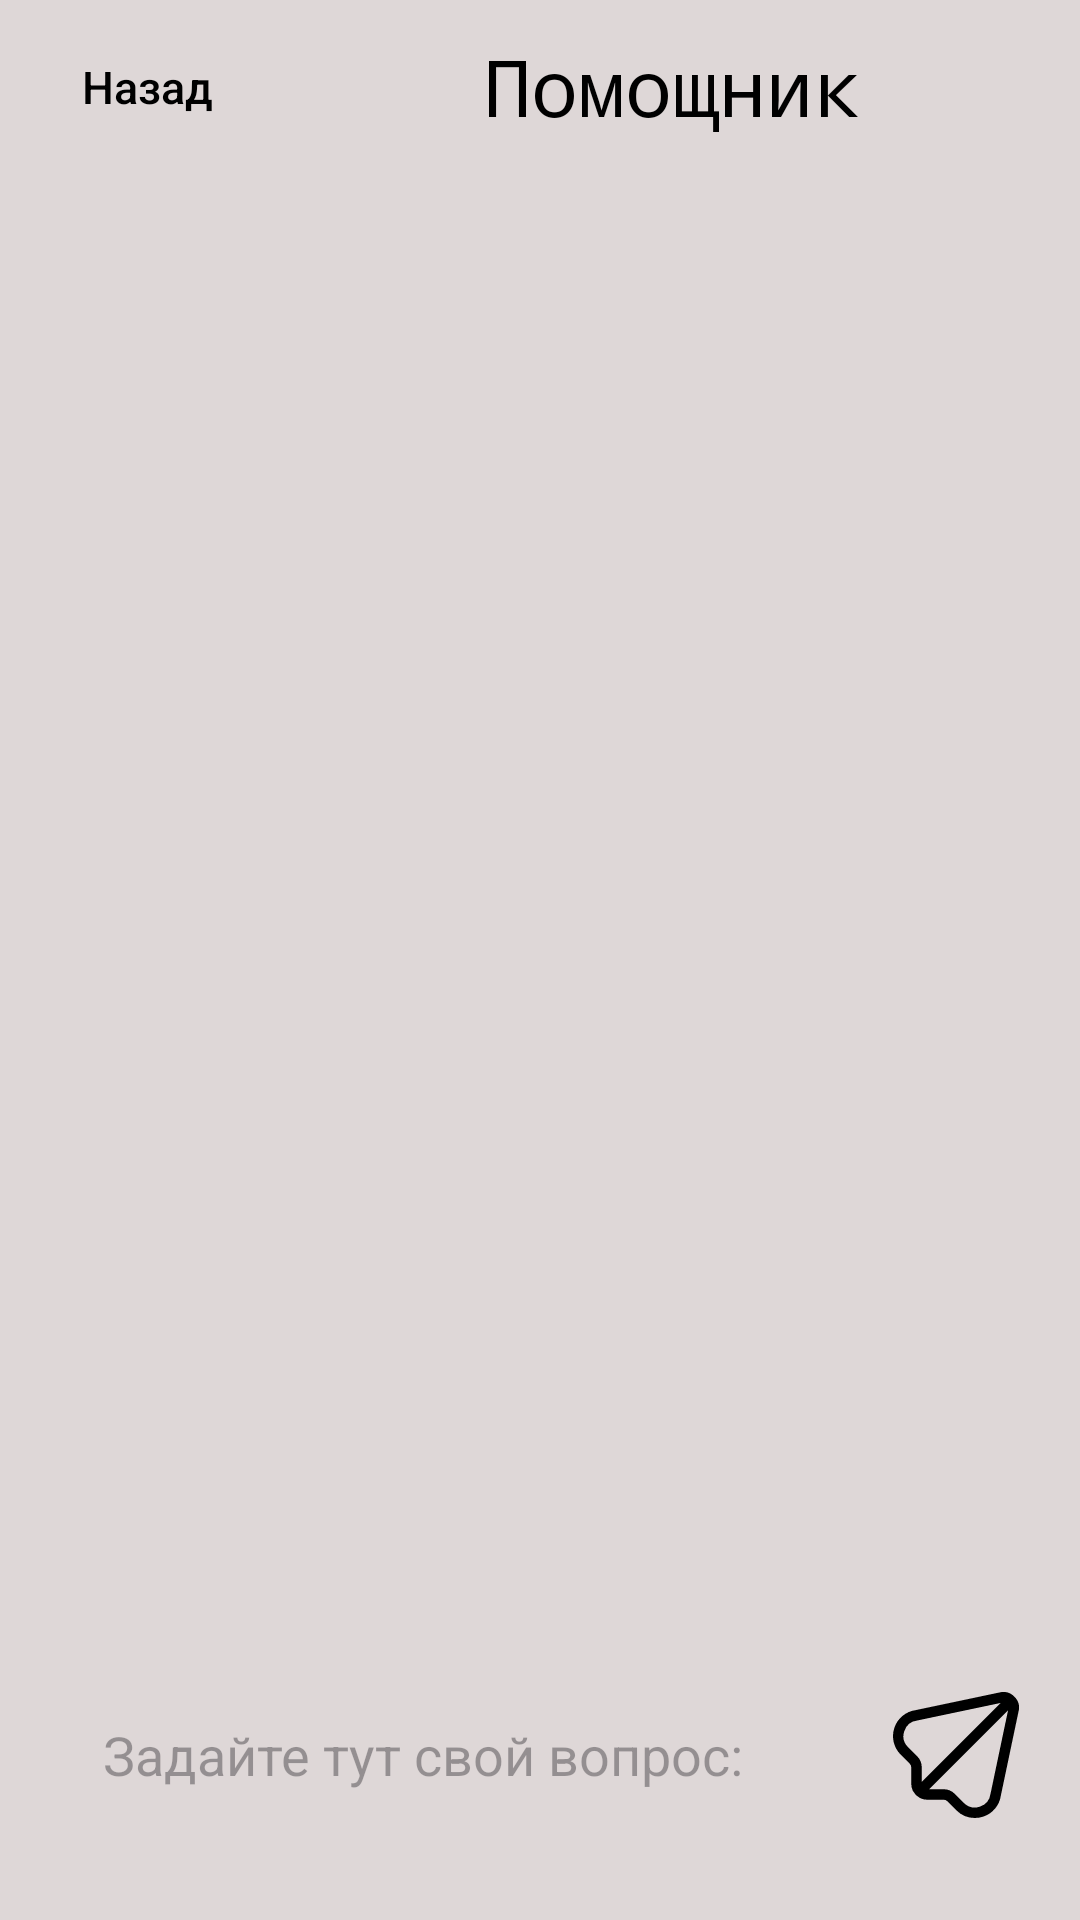

Locate icon controls on the screen. Image size 1080×1920, boxes as (x1, y1, x2, y2).
send: (893, 1692, 1019, 1818)
